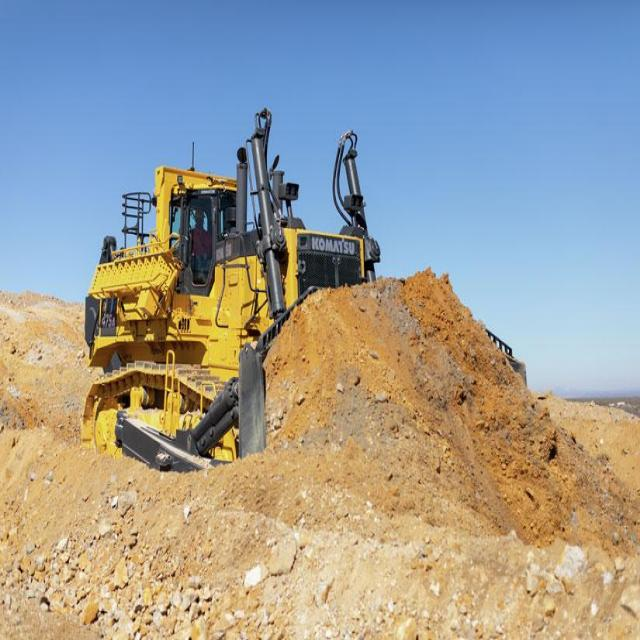Bulldozer: (80, 96, 453, 538)
